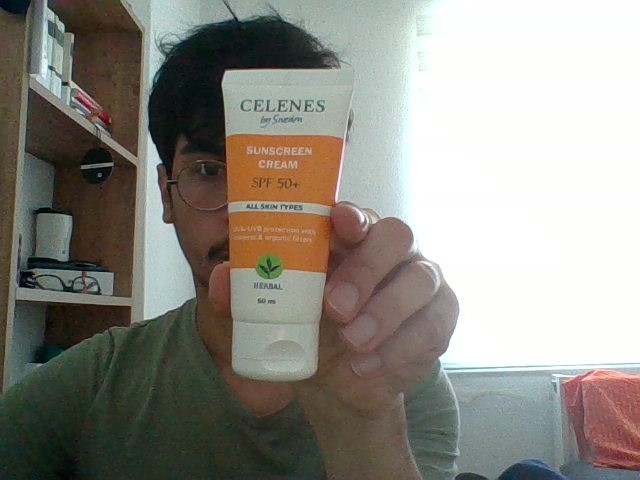CelenesSunCream: (221, 69, 358, 380)
